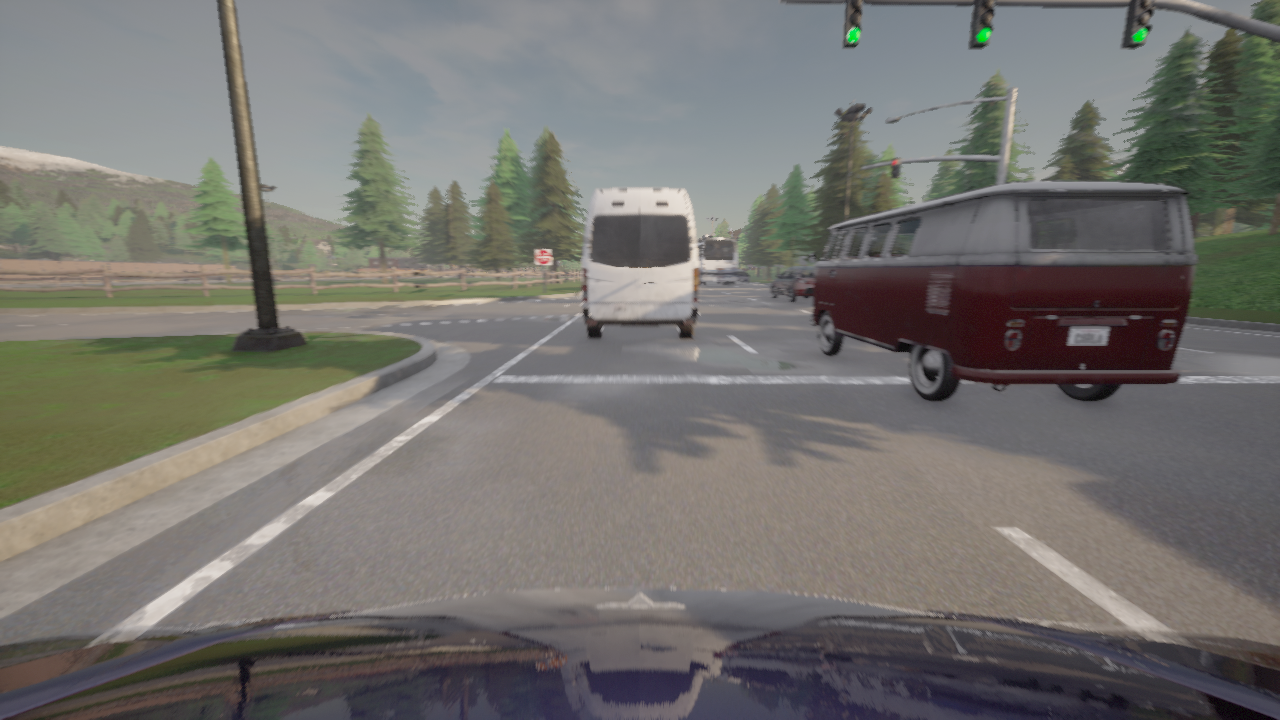cyclist: (0, 588, 1279, 719), (809, 181, 1197, 401), (581, 188, 698, 339), (697, 238, 736, 285), (769, 267, 814, 302), (731, 271, 748, 284)
